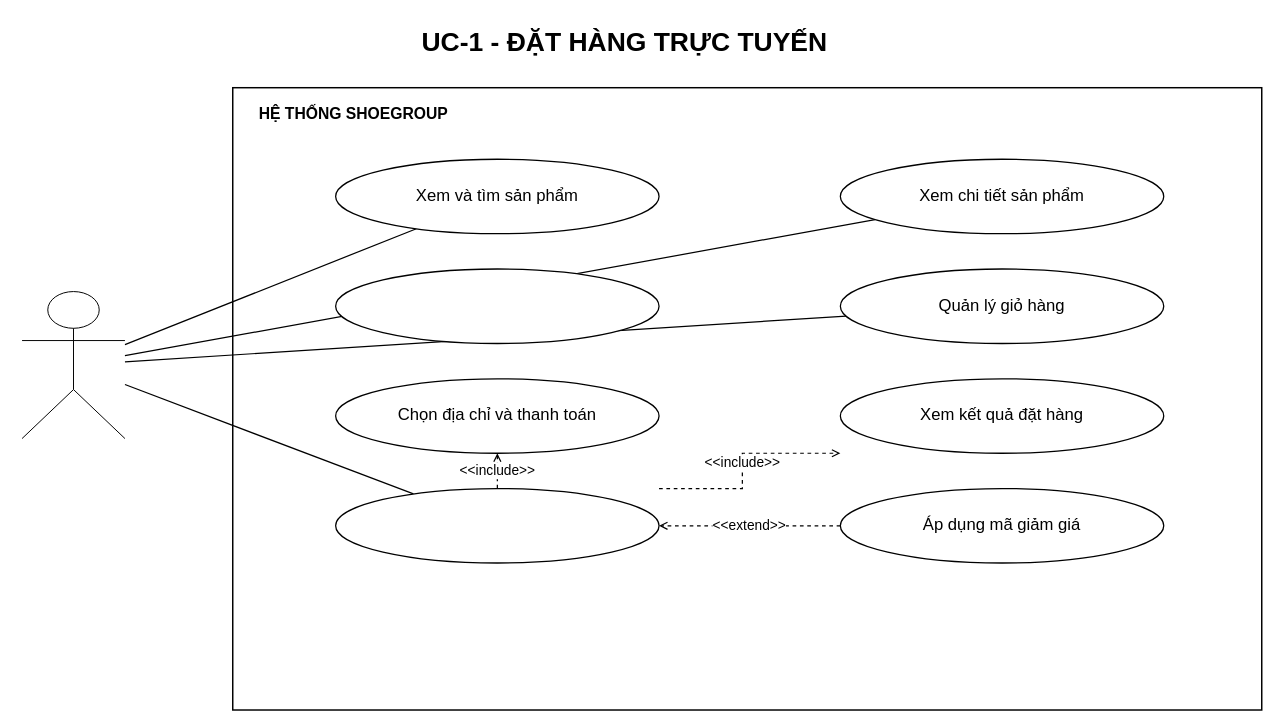
This 1279x727 diagram has some shape labels left out. Each missing label, with the centre of its shape:
"Chọn biến thể" goes at pixel 497 306.
"Khách hàng" goes at pixel 73 365.
"Đặt hàng trực tuyến" goes at pixel 497 525.
